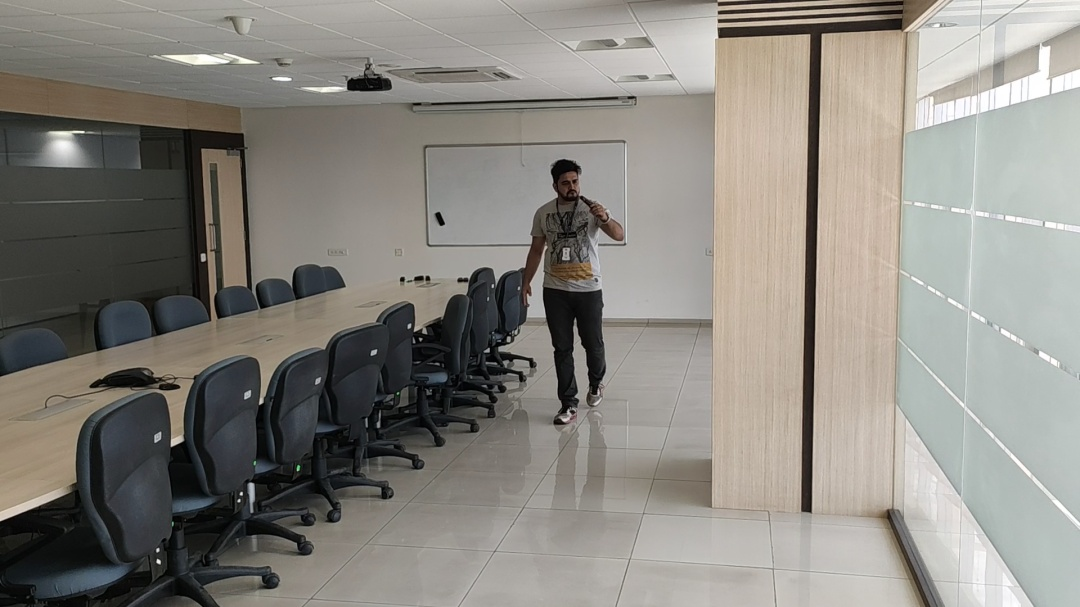gun: (579, 194, 592, 204)
